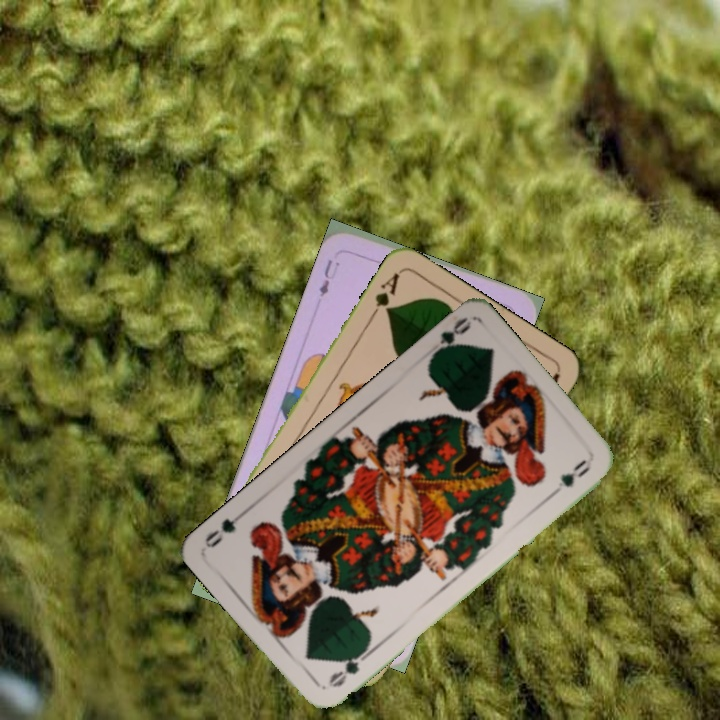EU: (314, 255, 343, 300)
GA: (365, 268, 403, 322)
GO: (426, 314, 474, 363), (324, 646, 373, 690)
